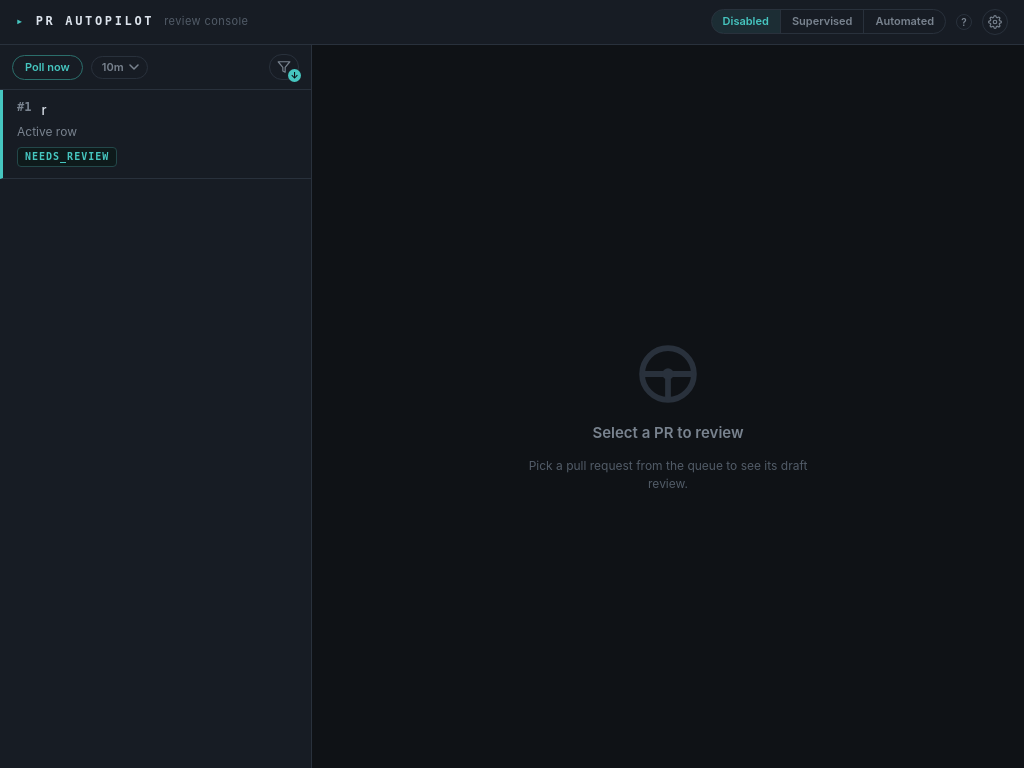
Test case: App — queue filters › reveals only DONE when Show done is checked
Expected: the text "Active row" is shown, top-left (17, 124), bottom-right (77, 138)
Click the button named "filter". click: (284, 67)
box: top-left (269, 54), bottom-right (299, 80)
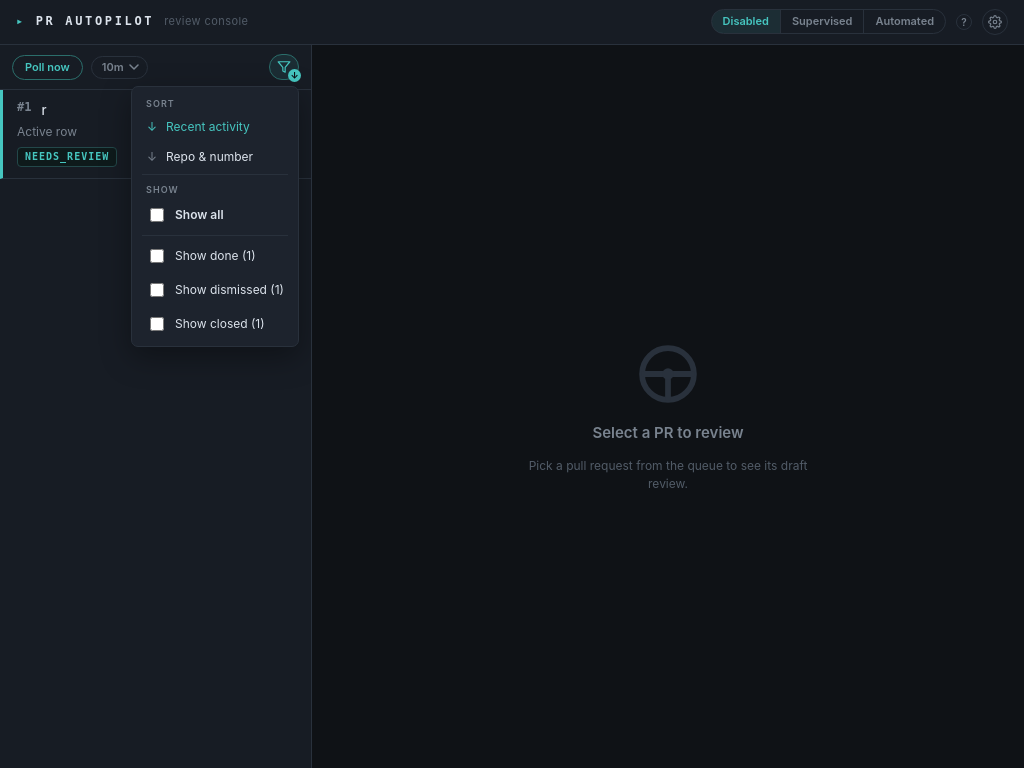
Click the checkbox labelled "Show done (1)". click: (157, 256)
box: top-left (150, 249), bottom-right (164, 263)
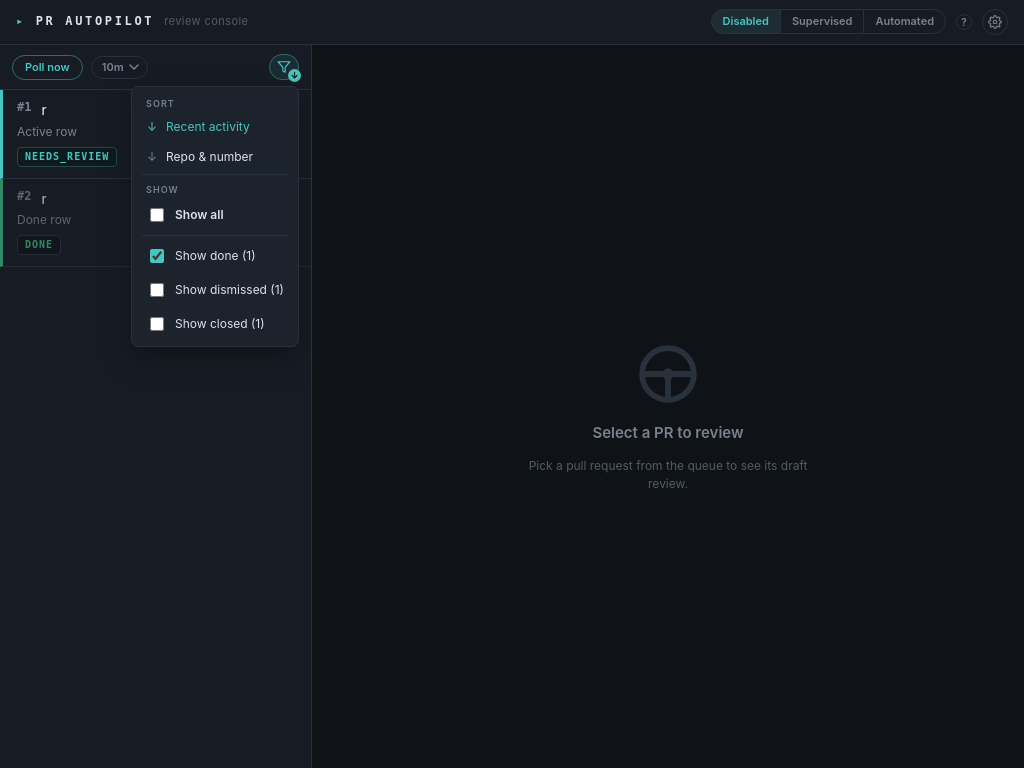
Now the text "Done row" is shown, box top-left (17, 212), bottom-right (71, 227)
